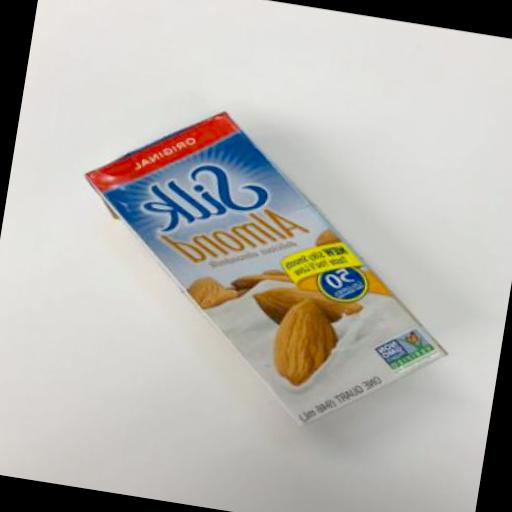cardboard: (49, 88, 478, 445)
